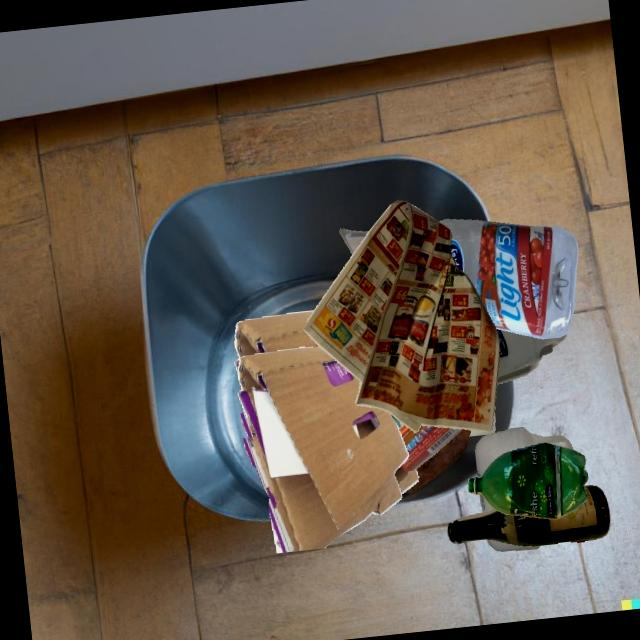biowaste: (404, 428, 470, 493)
cardboard: (237, 346, 408, 552), (252, 314, 407, 475)
glass: (447, 484, 610, 545), (389, 412, 461, 483)
paper: (303, 200, 499, 432), (468, 405, 495, 436), (339, 228, 368, 254)
plastic: (438, 219, 577, 339), (467, 442, 588, 519), (482, 446, 566, 545), (475, 426, 568, 477), (496, 328, 567, 384)
